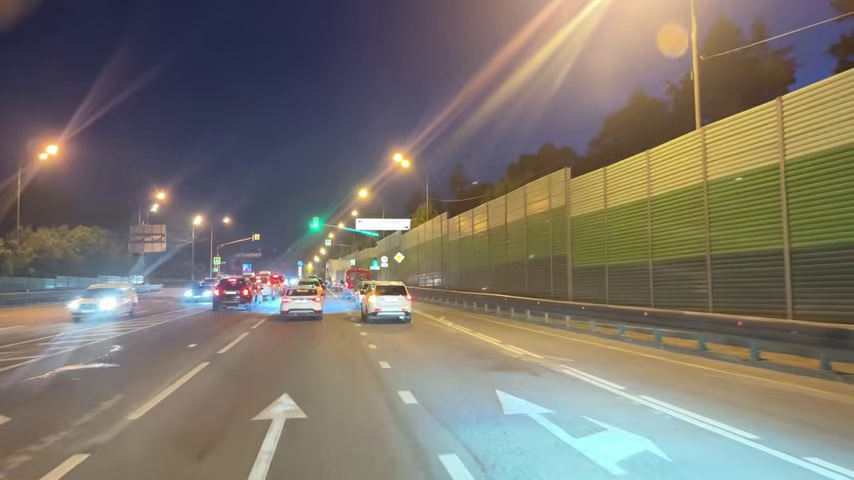acesa: (35, 139, 62, 165), (390, 150, 414, 173), (149, 187, 170, 212), (354, 184, 372, 203), (189, 212, 207, 230), (221, 214, 235, 228)
